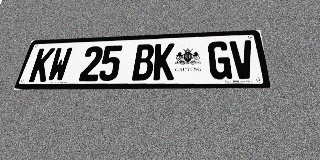2: (79, 46, 104, 81)
5: (98, 45, 123, 81)
B: (132, 44, 155, 81)
G: (208, 41, 232, 79)
K: (28, 48, 56, 82), (153, 43, 175, 80)
V: (229, 40, 257, 79)
W: (46, 47, 73, 82)
